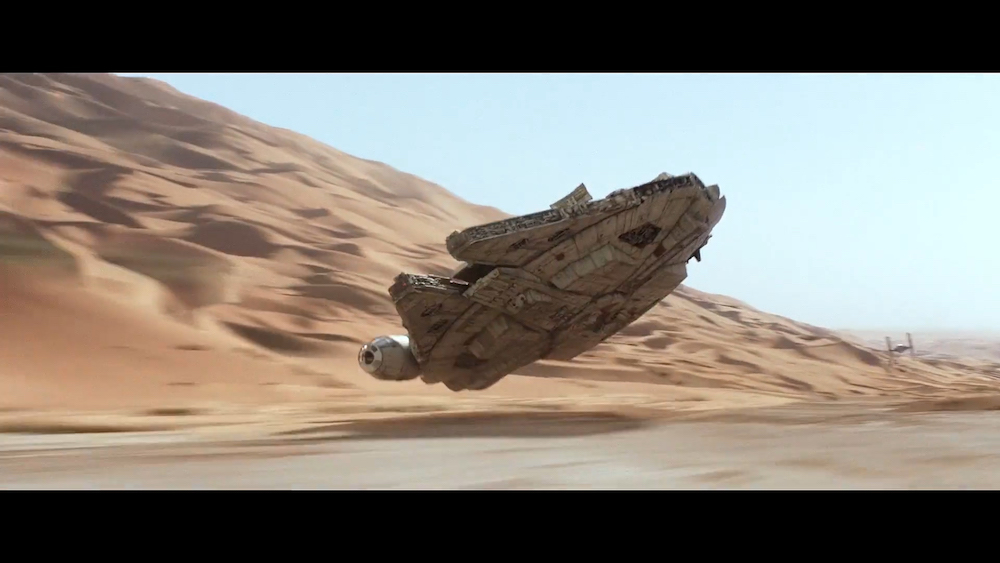Millennium Falcon: (357, 173, 730, 395)
Tie Fighter: (886, 333, 916, 367)
